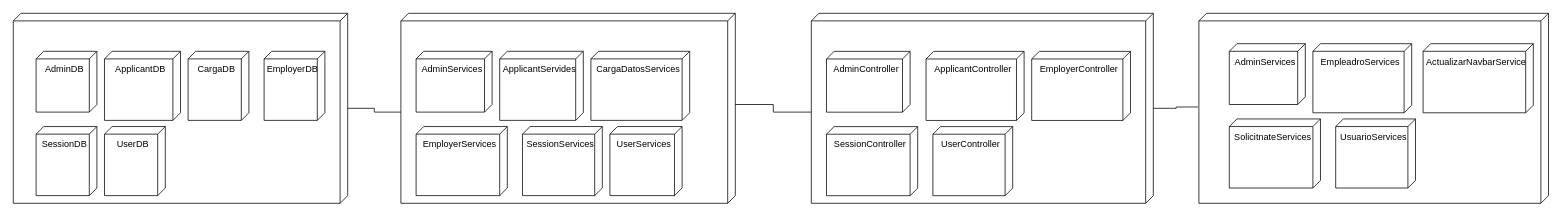
Image size: 1562x217. Some labels were removed from this diagram. Each missing label, with the box of its shape:
Controladores Backend: (811, 13, 1153, 203)
Servicios Backend: (400, 13, 735, 203)
Servicios Frontend: (1198, 13, 1548, 203)
Sitema de Base de datos: (13, 13, 348, 203)
